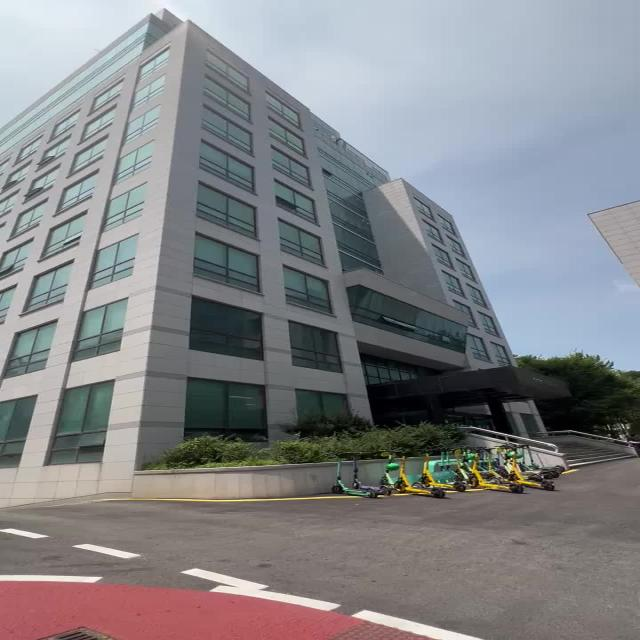building: (7, 13, 555, 418)
